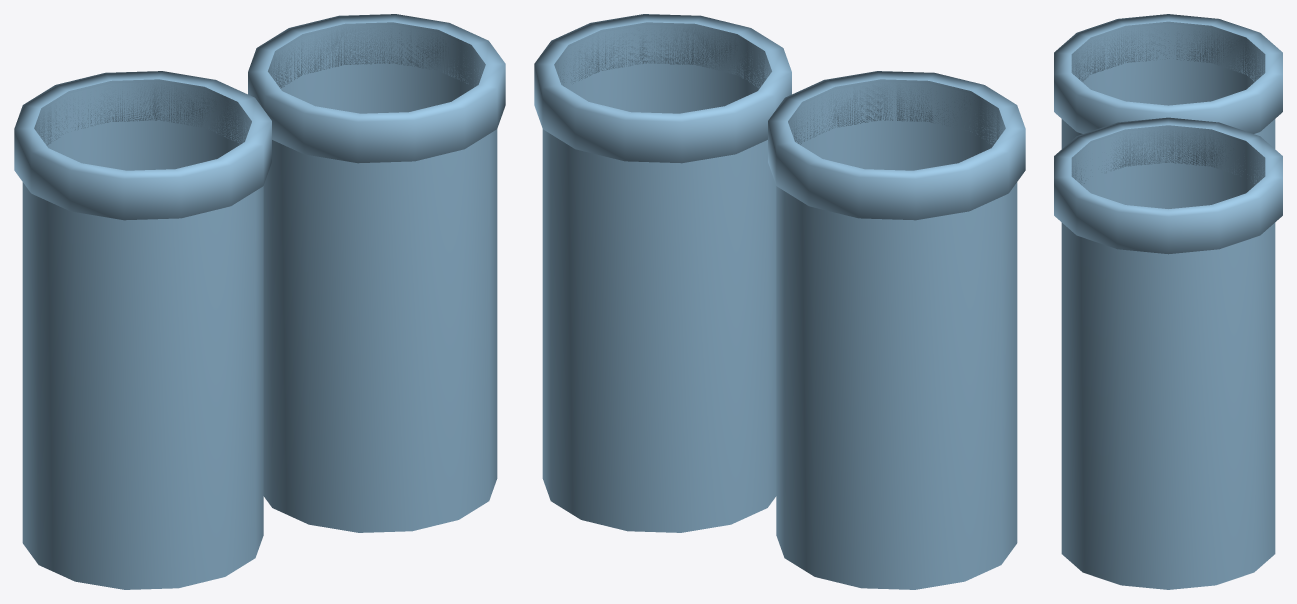
The model's file is everyday_tights.glb.
3 views of the same model, side by side, from view 1: azimuth 30°, elevation 25°; view 2: azimuth 150°, elevation 25°; view 3: azimuth 270°, elevation 25° (orthographic). The views are drawn at different scales.
Visible parts, largest first — view 1: everyday_tights_LegL, everyday_tights_LegR; view 2: everyday_tights_LegL, everyday_tights_LegR; view 3: everyday_tights_LegR, everyday_tights_LegL.
Part boxes in pixels (bbox=[...]): everyday_tights_LegL: bbox=[14, 71, 271, 589]; everyday_tights_LegR: bbox=[248, 14, 505, 532]; everyday_tights_LegL: bbox=[768, 71, 1025, 589]; everyday_tights_LegR: bbox=[534, 14, 791, 532]; everyday_tights_LegR: bbox=[1054, 117, 1282, 589]; everyday_tights_LegL: bbox=[1054, 14, 1282, 148].
Bounding box in the file's own units: 0.372 × 0.322 × 0.1774.
